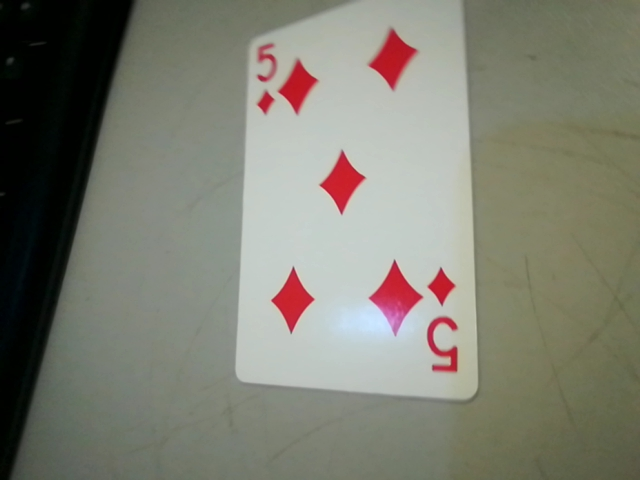fk 5: (415, 260, 472, 387)
